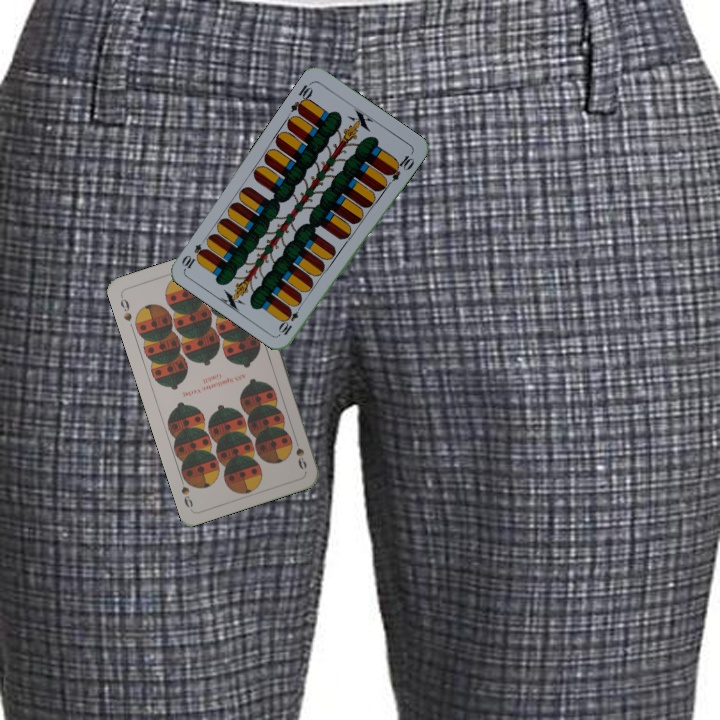E10: (287, 78, 316, 117), (276, 300, 304, 338)
S9: (290, 433, 309, 472), (116, 291, 134, 324)
